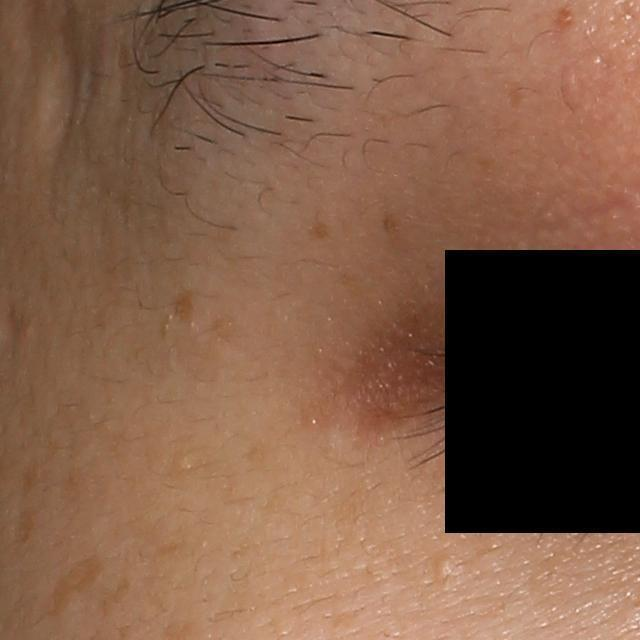comedo: (431, 554, 453, 578)
melasma: (42, 553, 106, 618), (102, 576, 134, 617), (546, 8, 578, 36), (173, 288, 195, 325), (303, 219, 333, 237)
